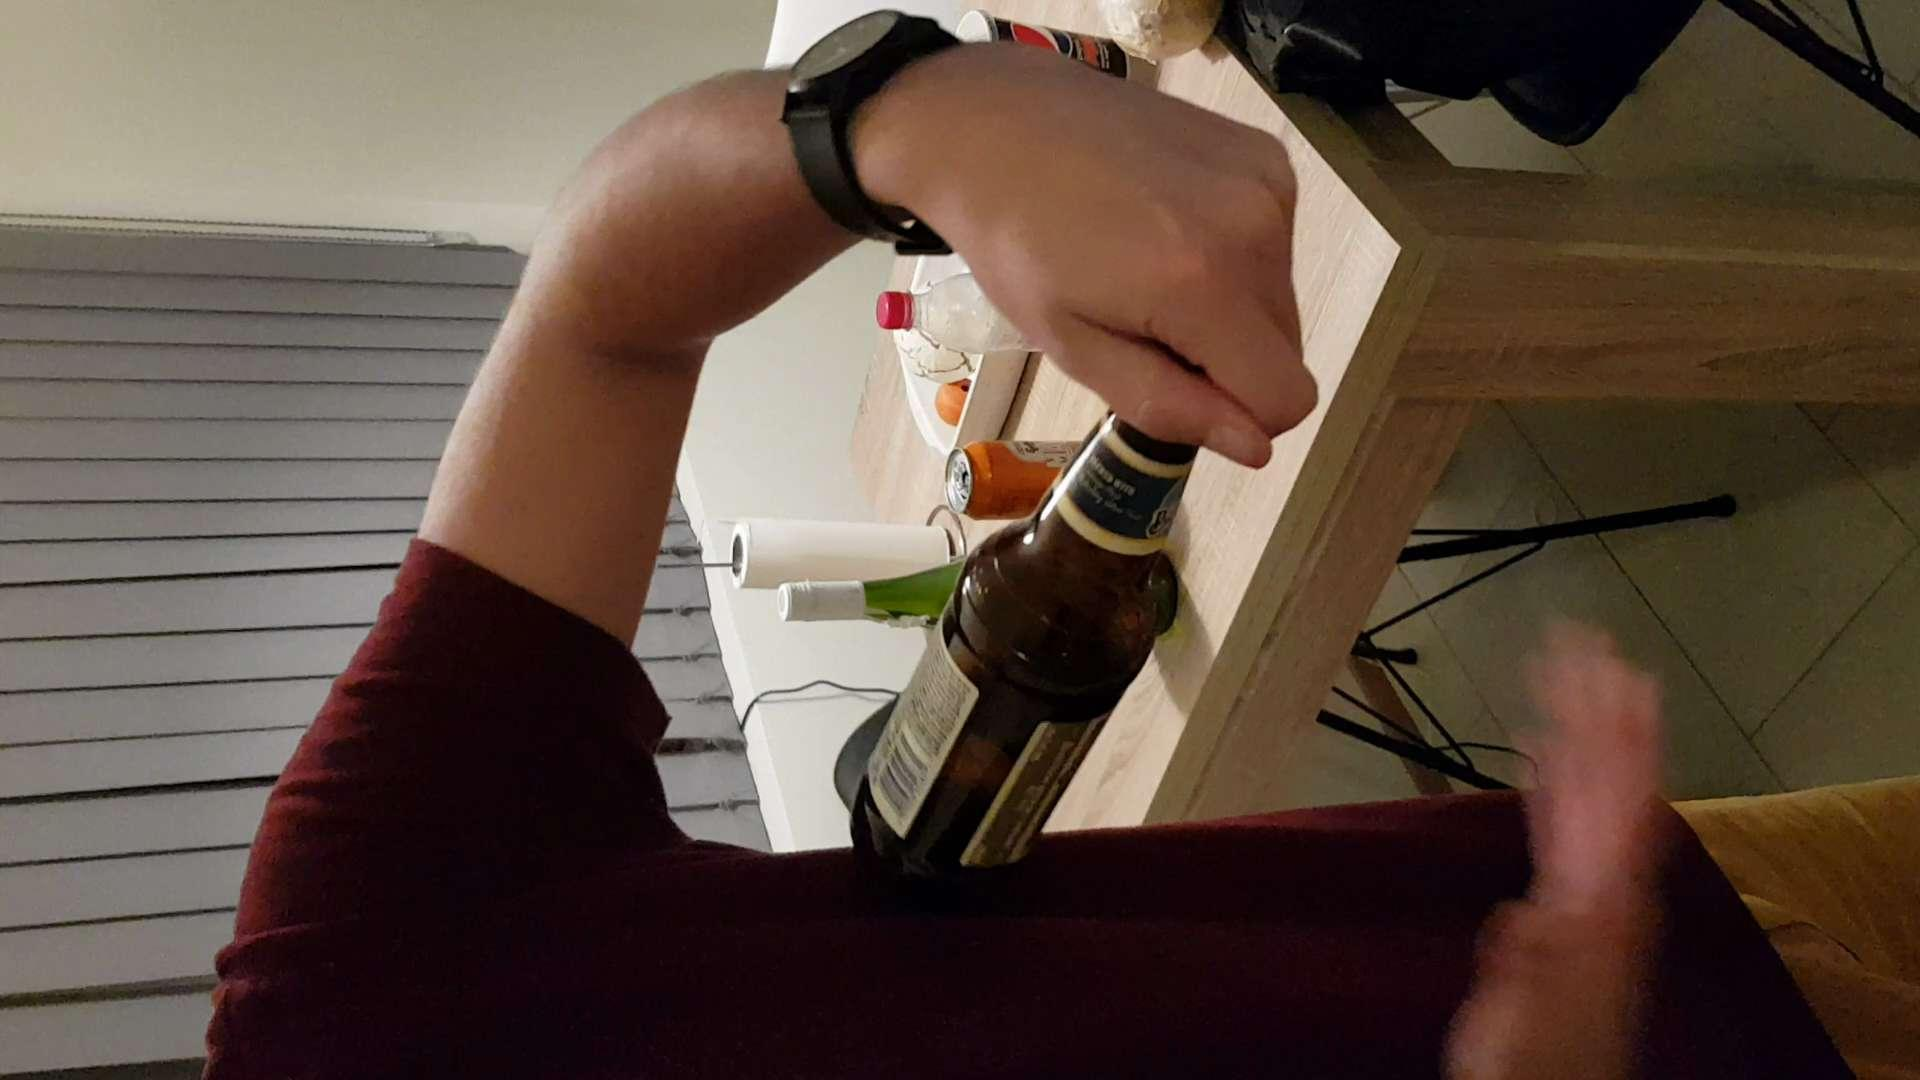Bottle: (843, 359, 1203, 899)
